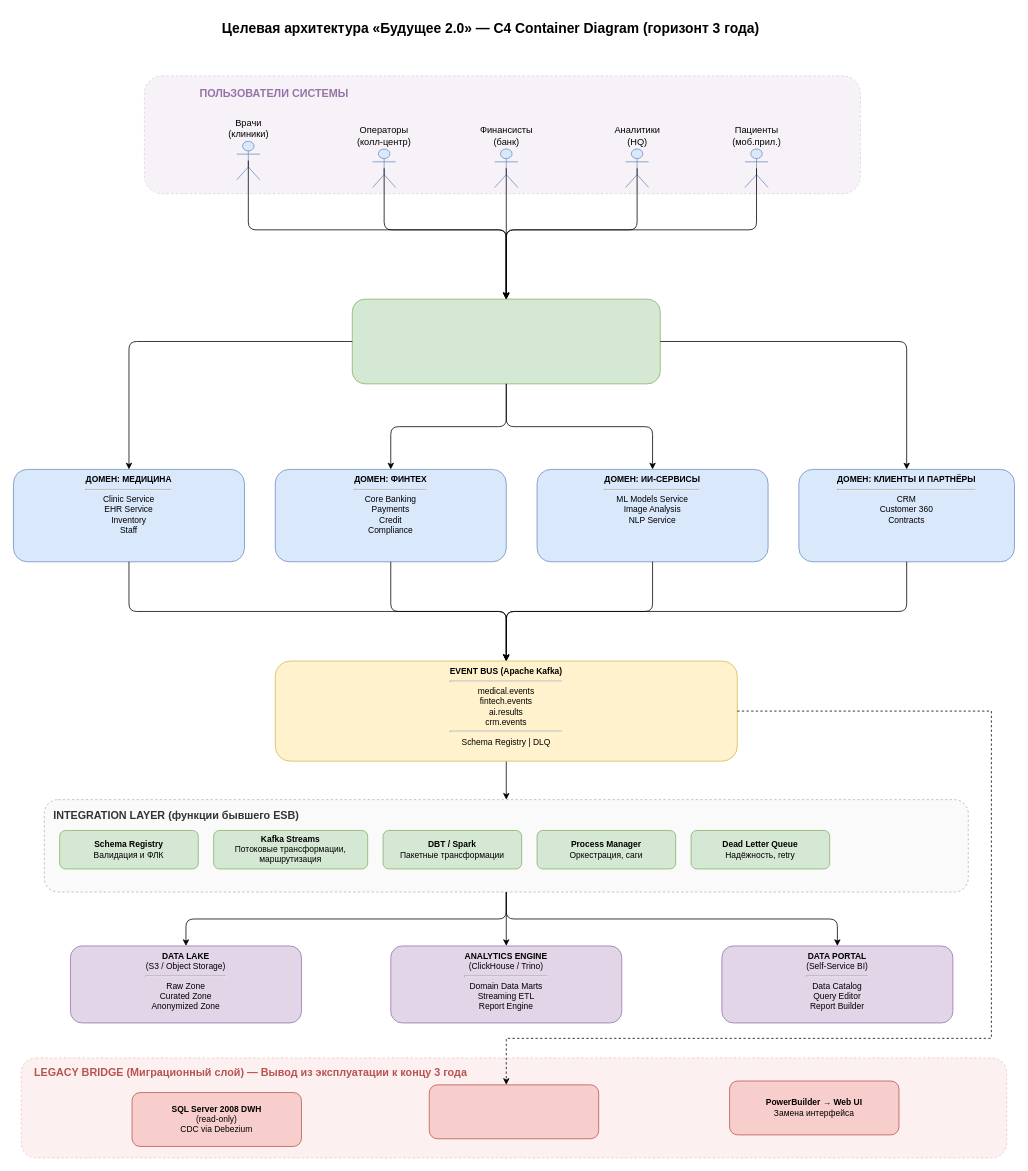
This 1028x1171 diagram has some shape labels left out. The shapes that lost their labels are listed below. From the top down, each one's box as (x1, y1, x2, y2) in pixels, then its label:
(352, 298, 660, 384): API GATEWAY (Kong / Yandex API Gateway) Аутентификация Авторизация Маршрутизация
(429, 1084, 599, 1139): Camel ESB (read-only) Anti-Corruption Layer
